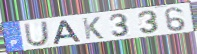3: (109, 12, 132, 38), (136, 10, 159, 35)
6: (164, 6, 188, 33)
A: (52, 19, 83, 45)
K: (81, 16, 105, 41)
U: (23, 20, 51, 48)
